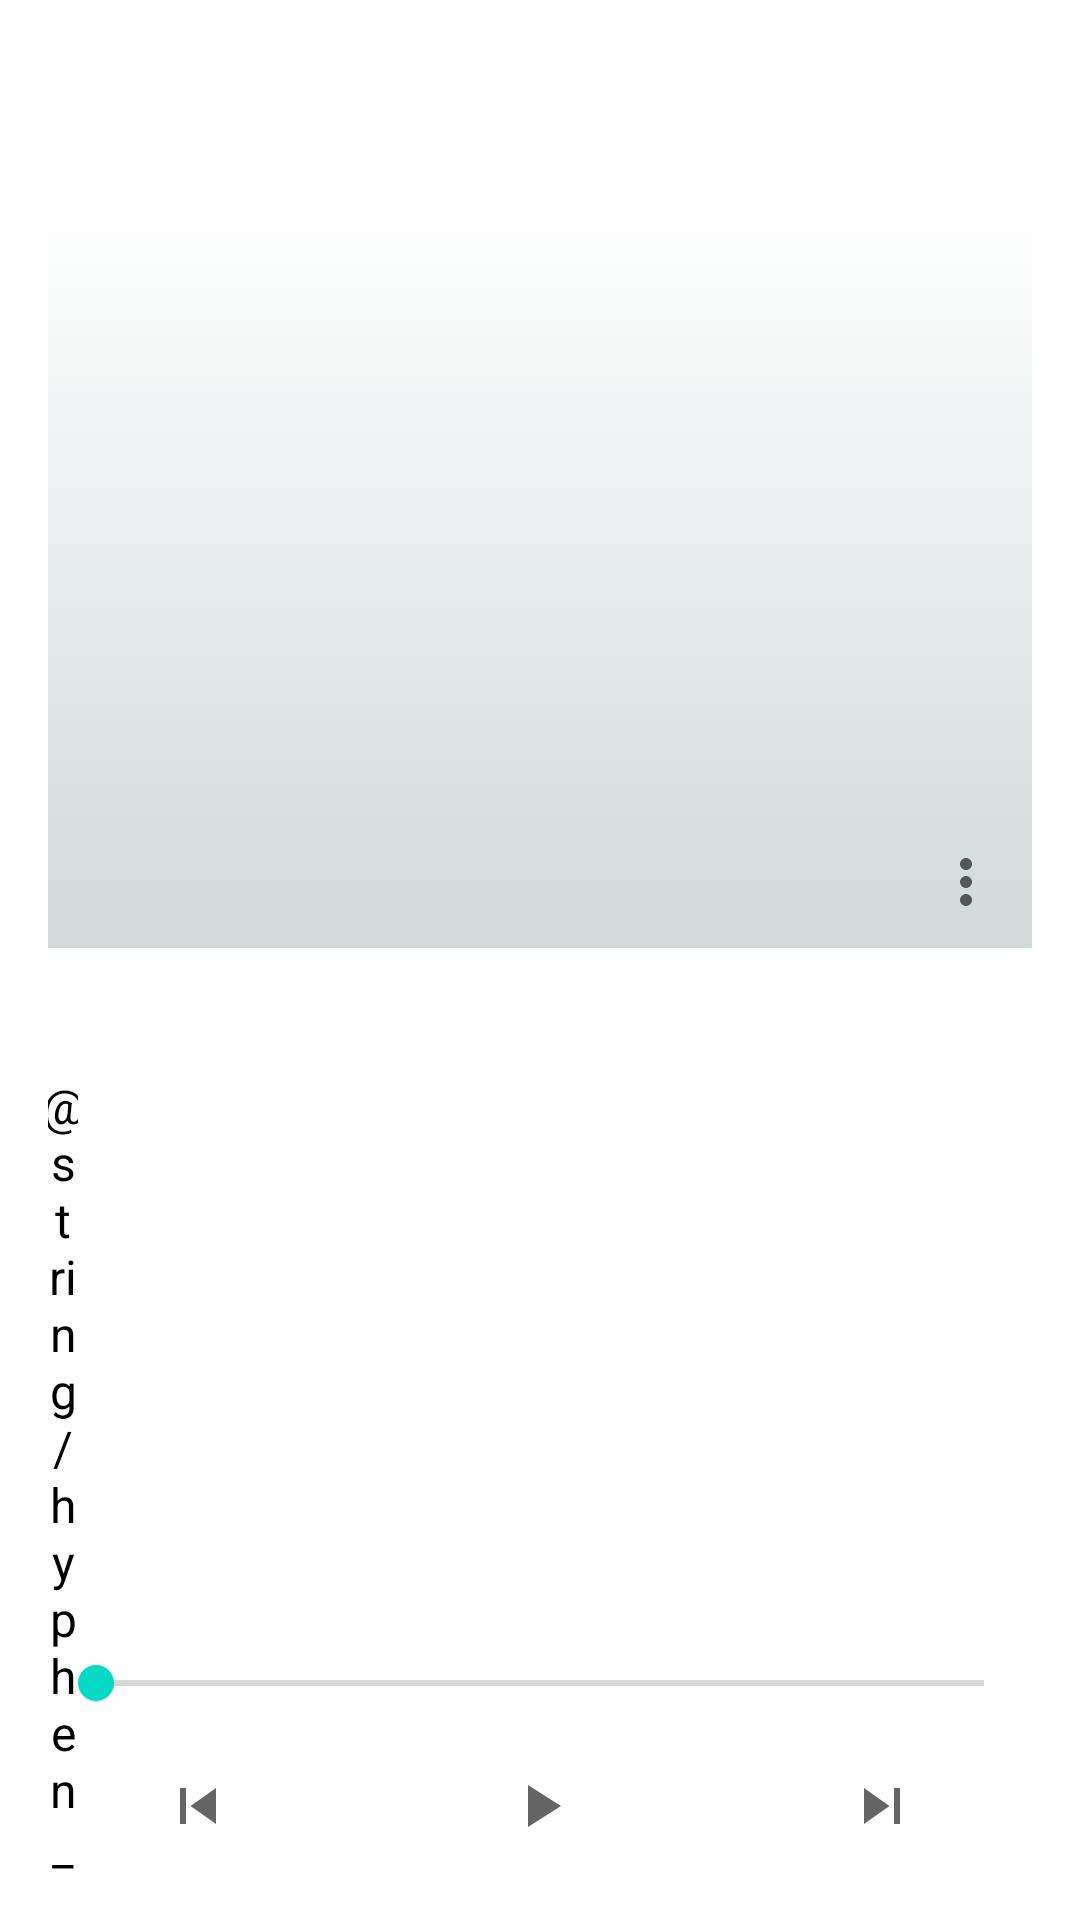

Locate icon controls on the screen. Image size 1080w x 1920h, boxes as (x1, y1, x2, y2).
next track current: (864, 1788, 900, 1824)
play current: (528, 1785, 561, 1827)
settings current track: (960, 858, 972, 906)
